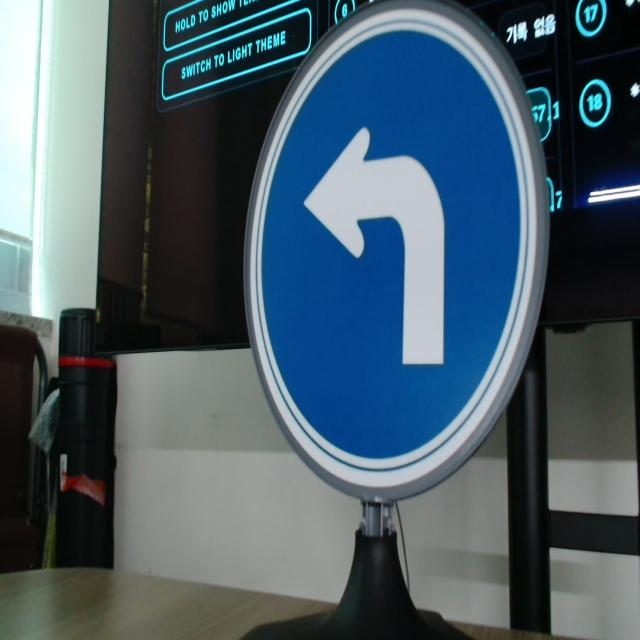left_direction: (238, 0, 551, 504)
